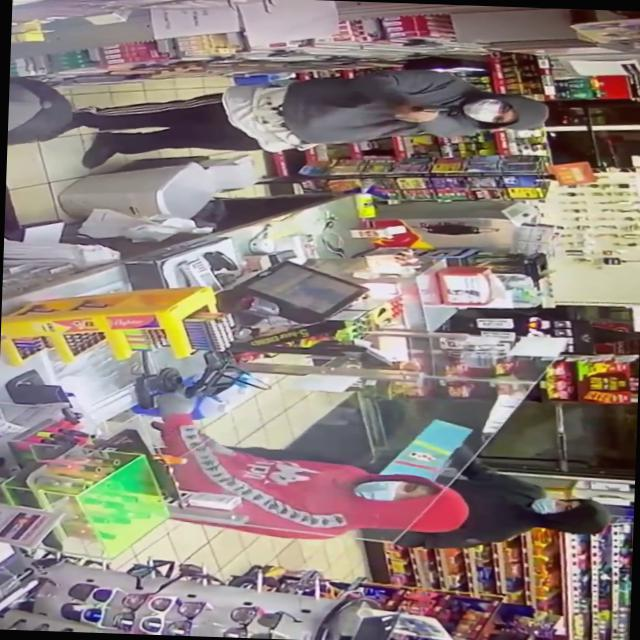handgun: (395, 94, 458, 122)
